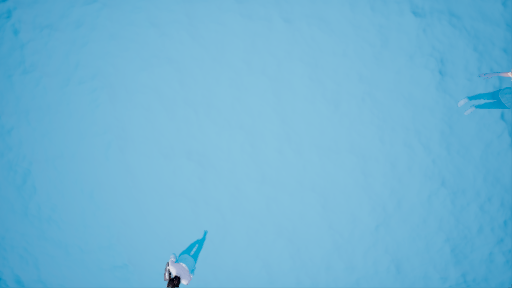person: (156, 220, 212, 288), (455, 62, 512, 117)
